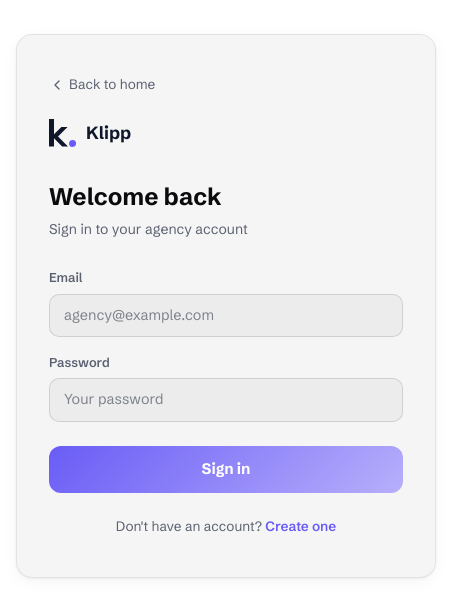
LoginPage › shows the API error message on failed login
The image size is (453, 614).
Type "hugo@agency.com" into the field labelled "Email".
click(226, 315); type("hugo@agency.com")  # box [49, 294, 403, 337]
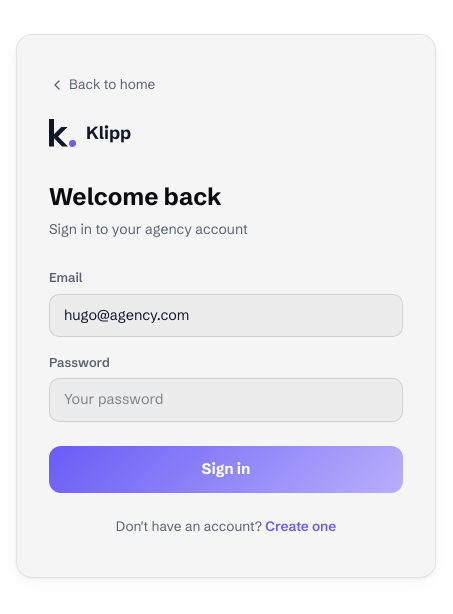
Type "bad" into the password field labelled "Password".
click(226, 400); type("bad")  # box [49, 378, 403, 422]
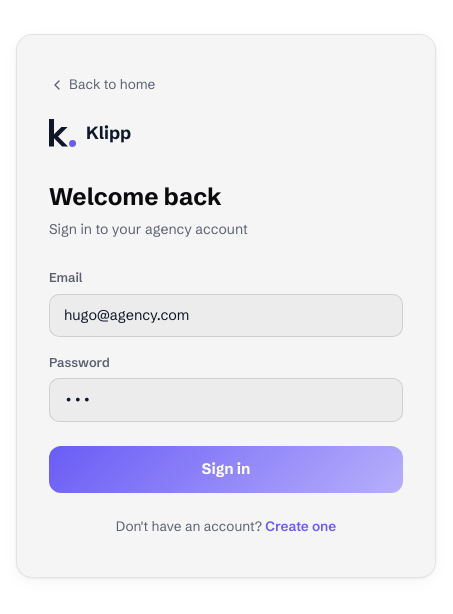
Click the button "Sign in".
click(226, 469)  # box [49, 446, 403, 493]
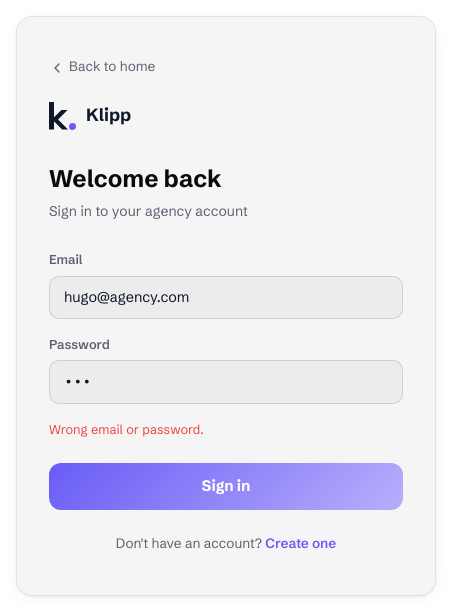
Expected: the text "Wrong email or password." is shown, [49, 421, 204, 437]
